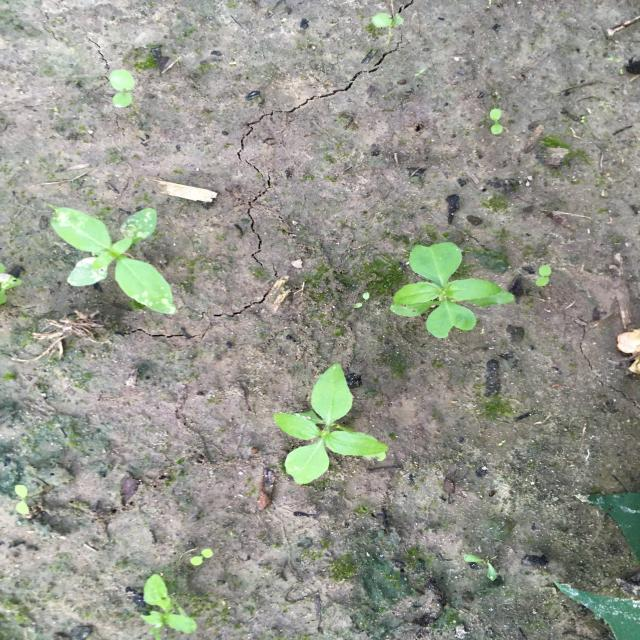Eclipta: (271, 362, 391, 485), (48, 204, 178, 316), (388, 240, 517, 340)
